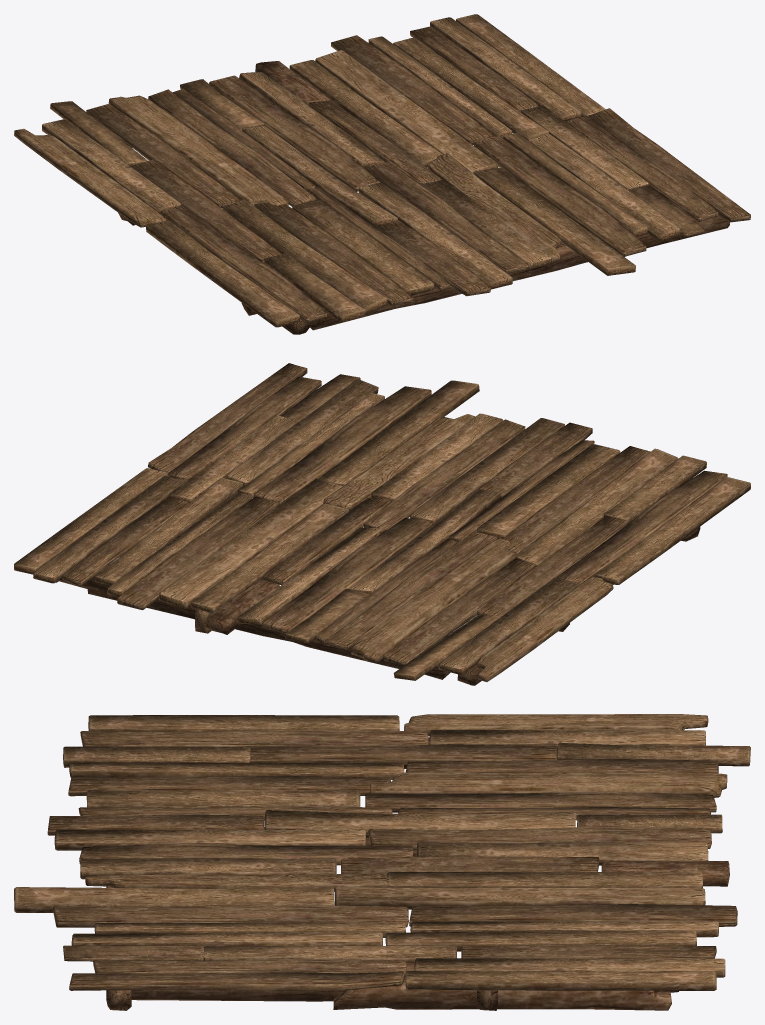
The model's file is o_mdl_env_dungeonRuinWoodSculptPlatformA_c-transformed.glb.
3 renders of one model, top to bottom at view 1: azimuth 30°, elevation 25°; view 2: azimuth 150°, elevation 25°; view 3: azimuth 270°, elevation 25°, orthographic. The views are drawn at different scales.
Visible parts, largest first — view 1: default; view 2: default; view 3: default.
Boxes of the visible parts, <box> form: default: <box>14,14,750,334</box>; default: <box>14,363,750,685</box>; default: <box>14,714,750,1010</box>.
Bounding box in the file's own units: 9.31 × 0.6906 × 10.72.
1 material, 1 textured.
